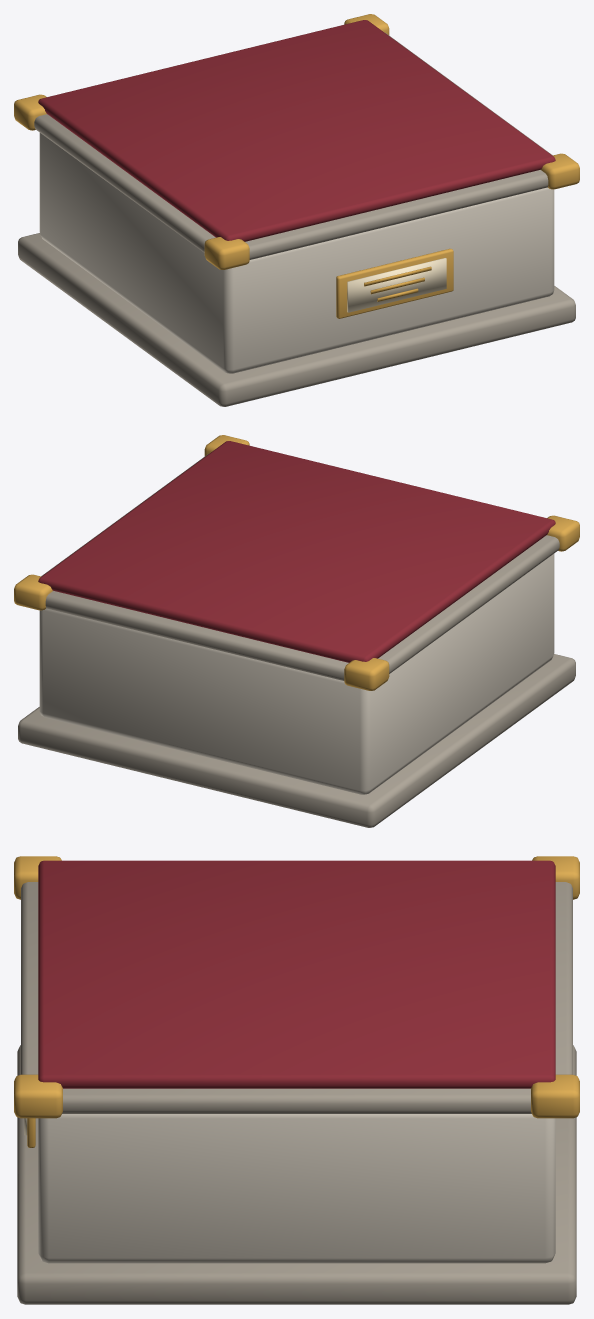
File: art-plinth.glb
3 views of the same model, one above another, from view 1: azimuth 30°, elevation 25°; view 2: azimuth 150°, elevation 25°; view 3: azimuth 270°, elevation 25° (orthographic). The views are drawn at different scales.
Visible parts, largest first — view 1: plinth; view 2: plinth; view 3: plinth.
Part boxes in pixels (x1,y1,x2,y2): plinth: (14, 14, 579, 406); plinth: (14, 435, 579, 827); plinth: (14, 856, 579, 1304).
Bounding box in the file's own units: 0.81 × 0.351 × 0.81.
